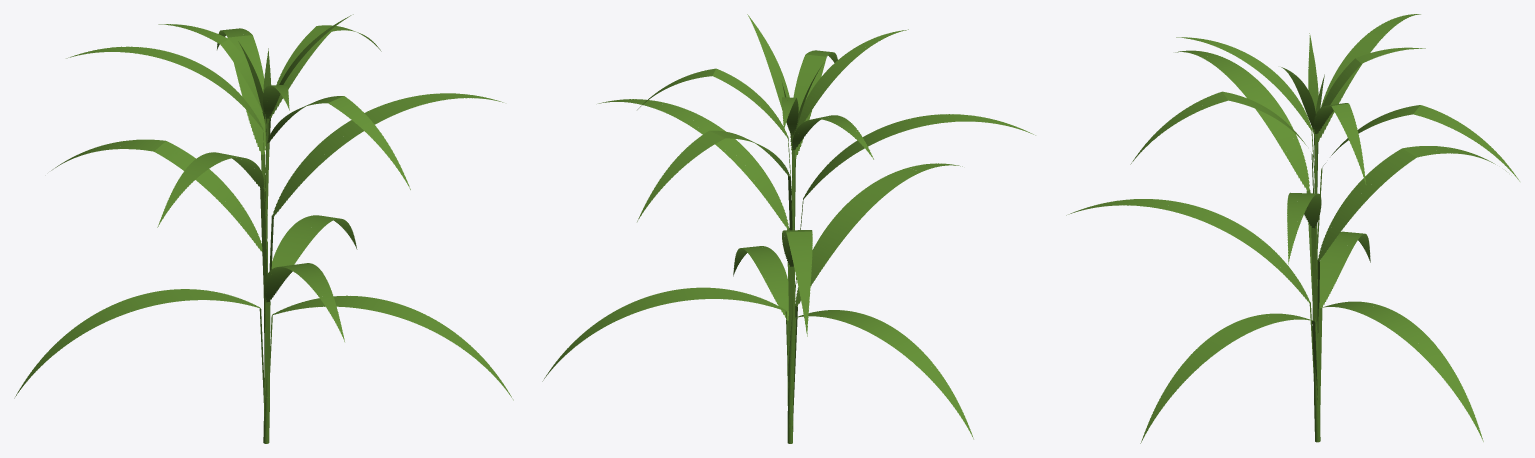
The model's file is maize_001_day_095.dae.
The picture shows the model from 3 angles, left to right: view 1: azimuth 30°, elevation 25°; view 2: azimuth 150°, elevation 25°; view 3: azimuth 270°, elevation 25°; orthographic projection. The views are drawn at different scales.
Parts seen in each view (by area): view 1: node; view 2: node; view 3: node.
Part boxes in pixels (x1,y1,x2,y2): node: (14,14,513,443); node: (542,14,1035,443); node: (1066,14,1519,443).
Size of the model in its own units: 1.72 by 1.57 by 1.59.
Materials: 1 (1 with a texture image).
